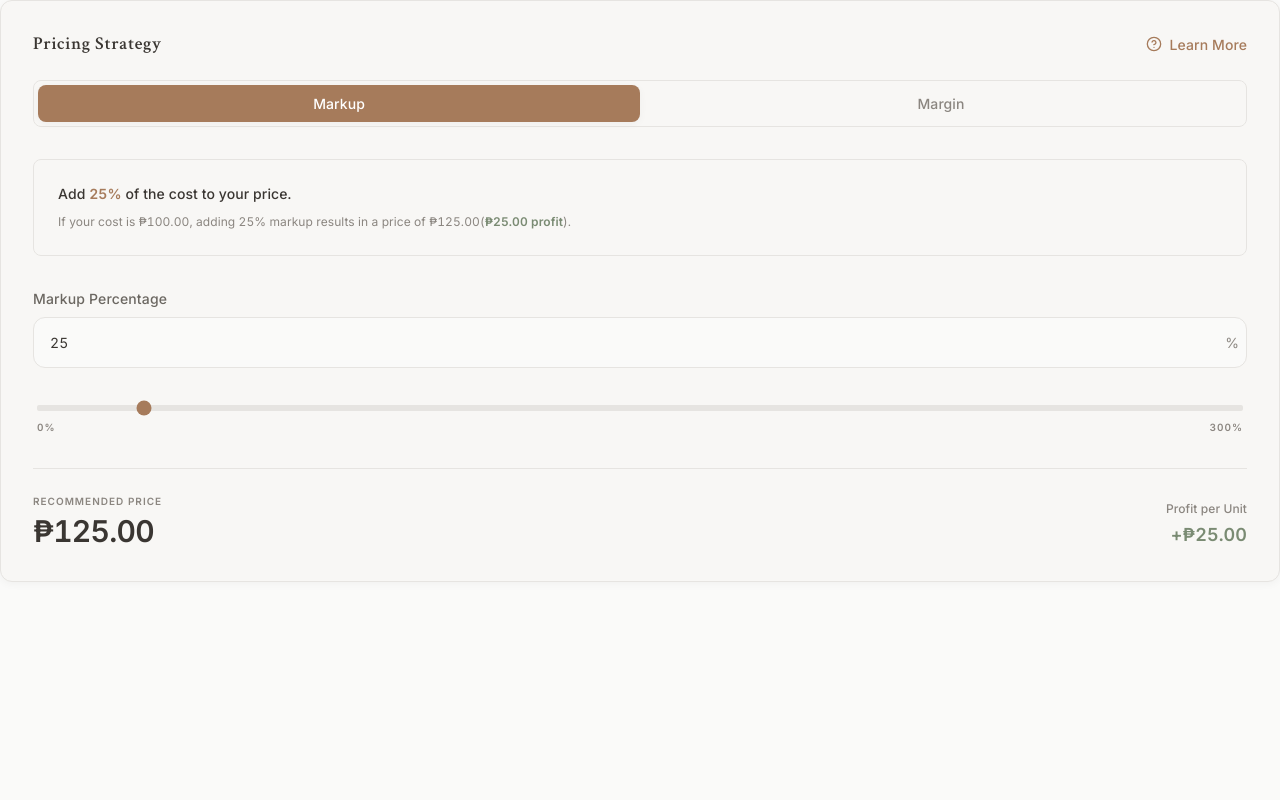
Scenario: PricingStrategy › opens help modal when link clicked
This screenshot has width=1280, height=800.
Expected: the text "Pricing Strategies Explained" is not shown
Click the button with aria-label "Help with pricing strategies".
click(1196, 44)  # box [1146,34,1247,55]
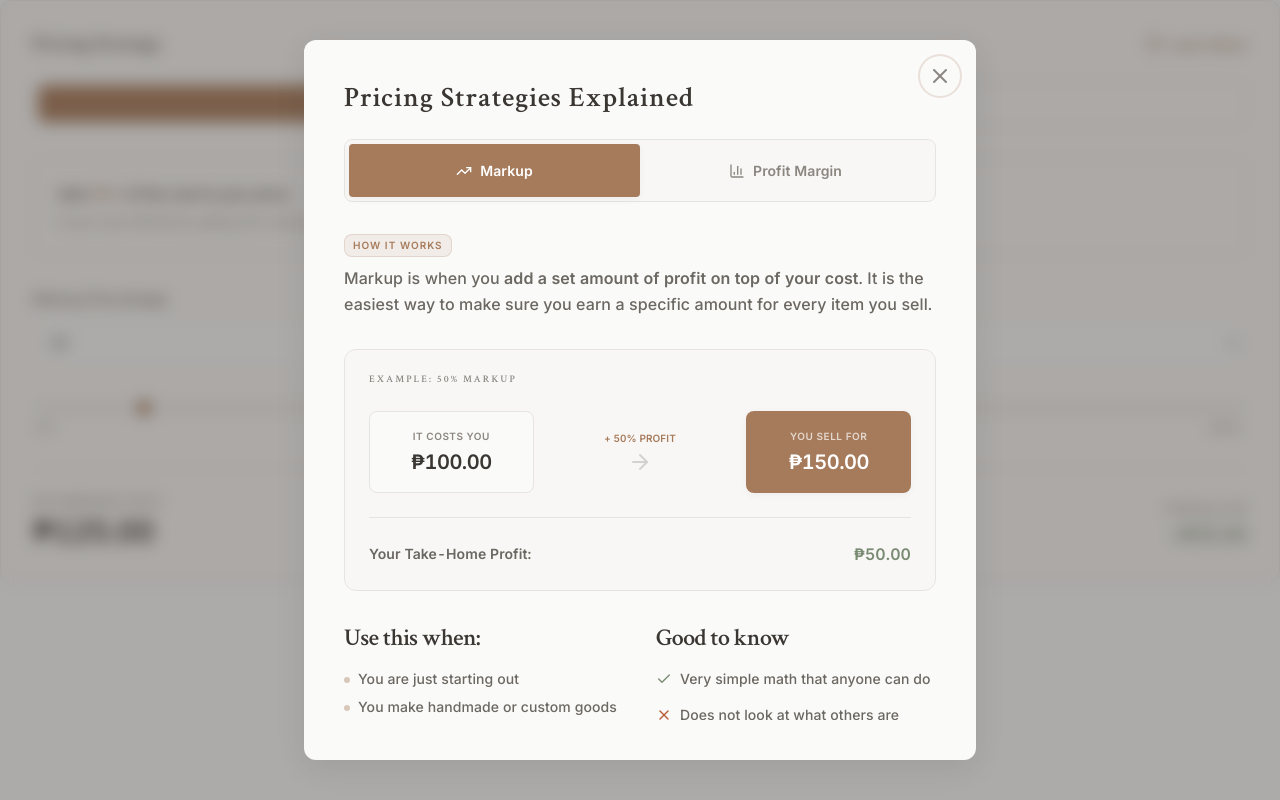
Now the heading "Pricing Strategies Explained" is shown, box [344,79,694,116]
